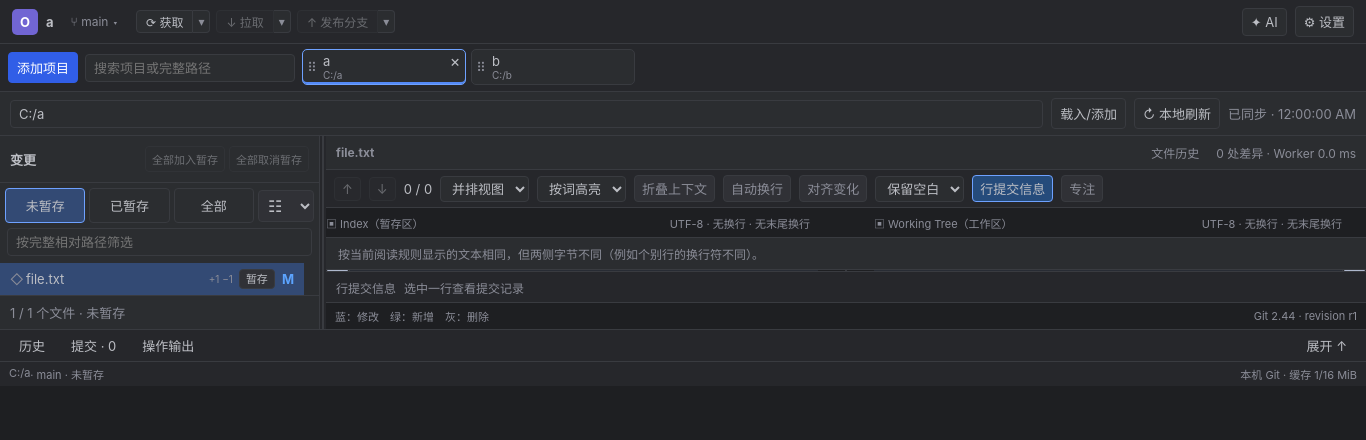
Scenario: controlled focus state integration (no native windows) › restarts saved v2 non-first staged tab under StrictMode: error
Click the button "b C:/b": (552, 67) x1=490 y1=50 x2=614 y2=84
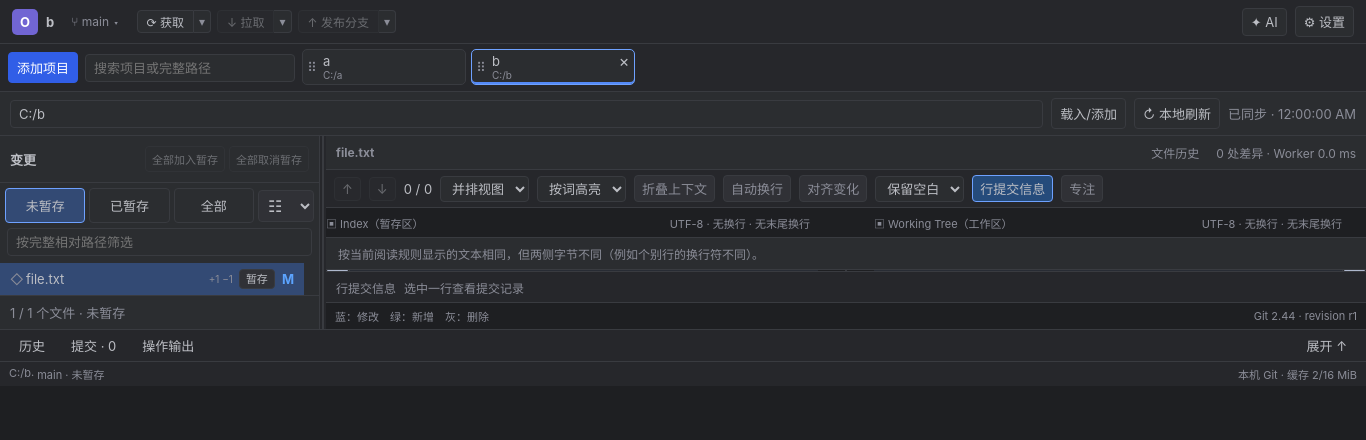
Click the button "已暂存": (129, 206) x1=89 y1=188 x2=170 y2=223
Wait 61000 ms
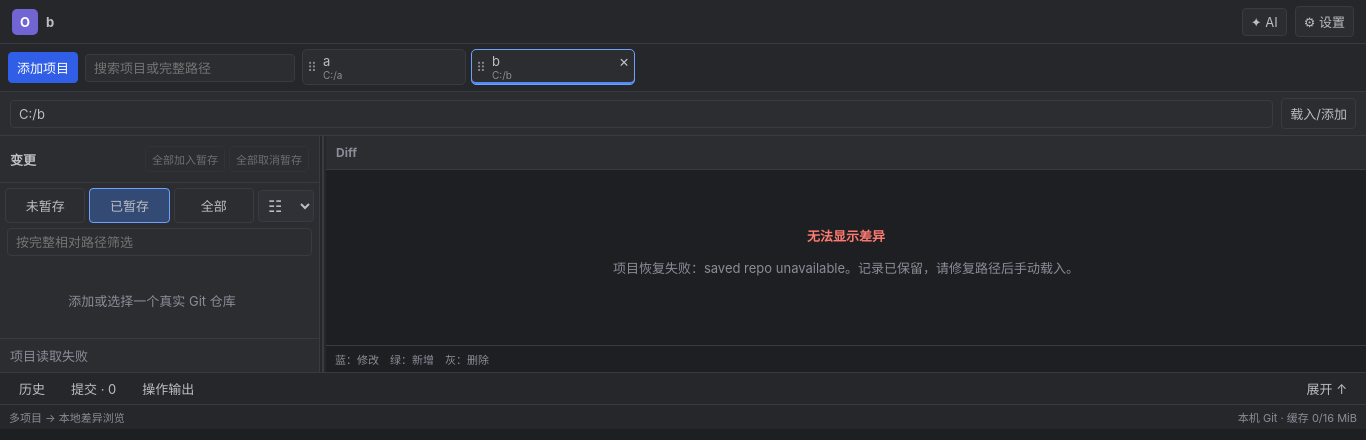
Expected: the text "saved repo unavailable" is shown, x1=613 y1=260 x2=1079 y2=276
Expected: the footer "项目读取失败" is shown, x1=0 y1=338 x2=319 y2=372
